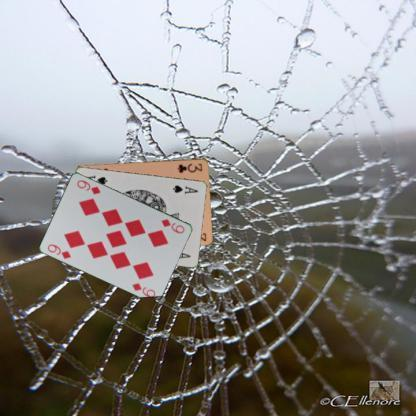3c: (174, 160, 204, 174)
9d: (159, 216, 186, 235), (45, 242, 73, 260)
As: (170, 182, 199, 194)
